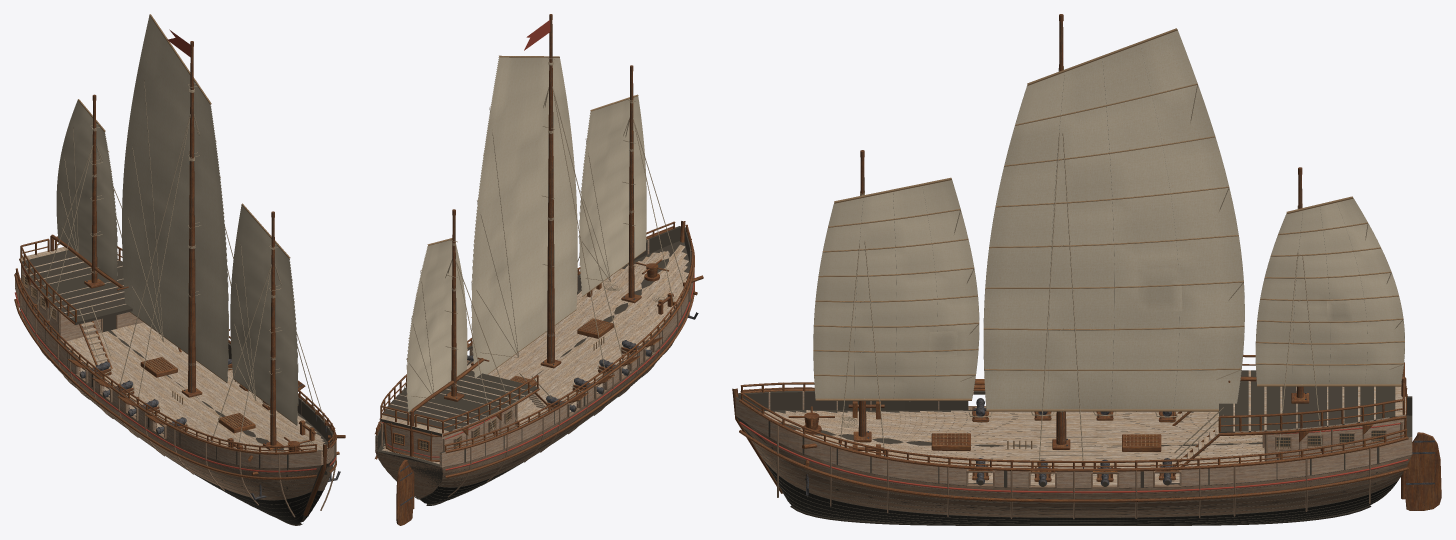
The model's file is fuchuan-lod1.glb.
3 views of the same model, side by side, from view 1: azimuth 30°, elevation 25°; view 2: azimuth 150°, elevation 25°; view 3: azimuth 270°, elevation 25° (orthographic). The views are drawn at different scales.
Parts seen in each view (by area): view 1: sail_1, hull, deck, sail_0, sail_2, shadow_deck, deck_fittings, bulwark_rails, mast_timber_1, shadow_hull, sterncastle, mast_timber_0 (+7 smaller); view 2: sail_1, deck, hull, sail_0, sail_2, shadow_deck, deck_fittings, shadow_hull, bulwark_rails, mast_timber_1, mast_timber_0, stern_transom (+9 smaller); view 3: sail_1, hull, sail_0, sail_2, deck, shadow_deck, shadow_hull, bulwark_rails, deck_fittings, rudder_blade, sterncastle, rigging_1.
Boxes of the visible parts, x1,y1,x2,y2 form: sail_1: (122, 14, 228, 382); hull: (14, 273, 336, 525); deck: (19, 247, 327, 452); sail_0: (230, 203, 298, 425); sail_2: (56, 99, 117, 281); shadow_deck: (22, 250, 132, 324); deck_fittings: (21, 265, 345, 500); bulwark_rails: (15, 236, 335, 452); mast_timber_1: (188, 47, 195, 392); shadow_hull: (15, 273, 334, 522); sterncastle: (22, 269, 143, 342); mast_timber_0: (270, 218, 276, 445); sail_1: (471, 55, 577, 378); deck: (379, 244, 688, 464); hull: (375, 221, 694, 505); sail_0: (578, 94, 646, 296); sail_2: (406, 238, 467, 412); shadow_deck: (380, 371, 538, 436); deck_fittings: (381, 259, 703, 461); shadow_hull: (375, 226, 691, 503); bulwark_rails: (376, 221, 693, 451); mast_timber_1: (547, 20, 554, 363); mast_timber_0: (628, 71, 634, 297); stern_transom: (385, 424, 441, 459); sail_1: (983, 28, 1244, 411); hull: (732, 388, 1412, 525); sail_0: (813, 177, 979, 401); sail_2: (1255, 196, 1404, 386); deck: (764, 370, 1406, 485); shadow_deck: (1219, 370, 1395, 432); shadow_hull: (735, 391, 1412, 524); bulwark_rails: (740, 355, 1407, 468); deck_fittings: (788, 386, 1406, 495); rudder_blade: (1405, 432, 1441, 510); sterncastle: (1264, 419, 1403, 460); rigging_1: (1037, 132, 1085, 473).
Bounding box in the file's own units: 10.4 × 26.65 × 33.55.
Materials: 13 (8 with a texture image).
